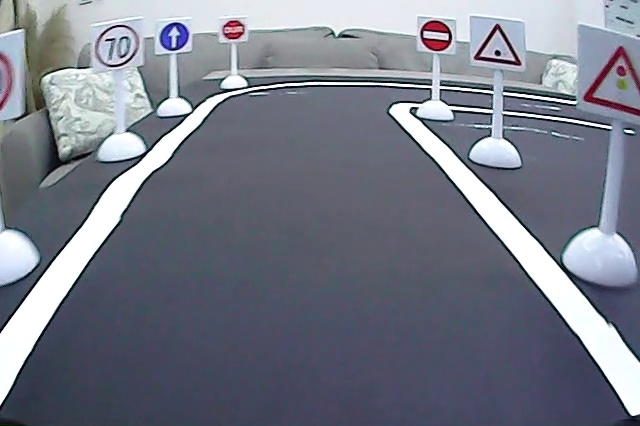do not enter: (418, 18, 454, 54)
green light: (469, 19, 524, 70)
red light: (581, 41, 640, 121)
speed limit 70: (93, 20, 141, 71)
stop sign: (220, 18, 248, 43)
